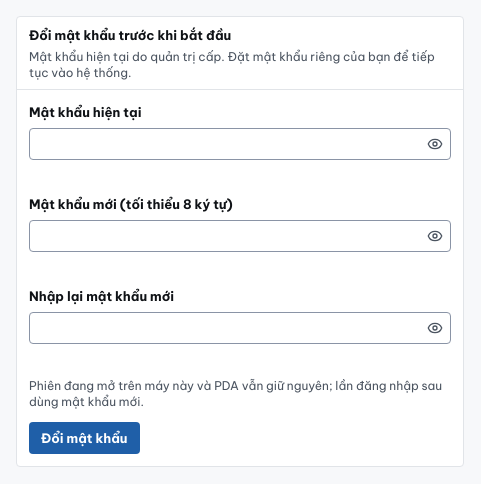
Test case: <ChangePasswordScreen> › mật khẩu mới trùng mật khẩu cũ → 422 gắn vào ô mật khẩu mới, không chuyển trang
Type "thiennong!" into the password field labelled "Mật khẩu hiện tại" at (240, 144), box [29,128,451,160]
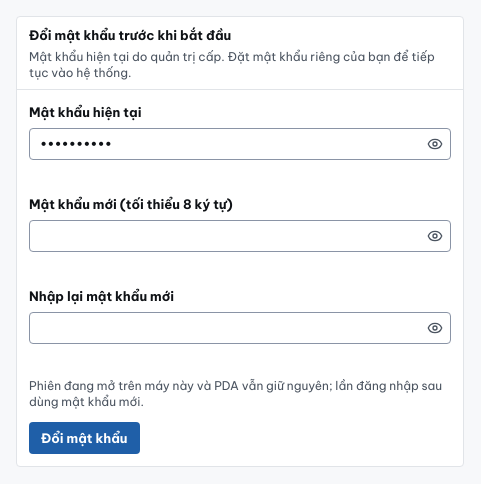
Type "thiennong!" into the password field labelled "Mật khẩu mới (tối thiểu 8 ký tự)" at (240, 236), box [29,220,451,252]
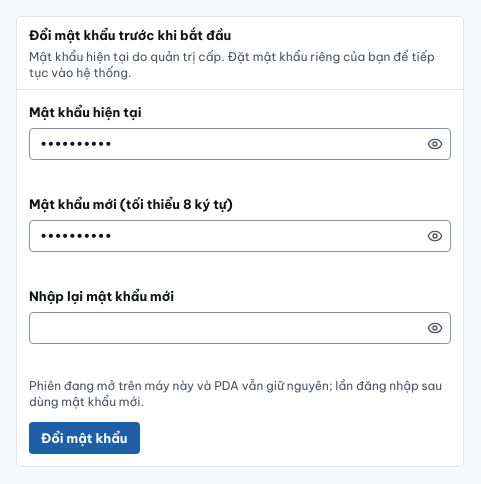
Type "thiennong!" into the password field labelled "Nhập lại mật khẩu mới" at (240, 328), box [29,312,451,344]
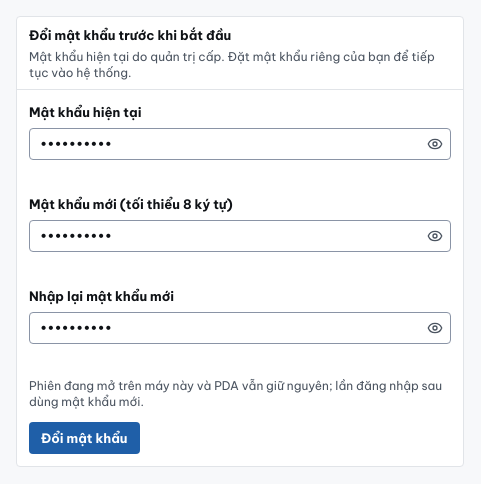
Click the button "Đổi mật khẩu" at (84, 438), box [29,422,140,454]
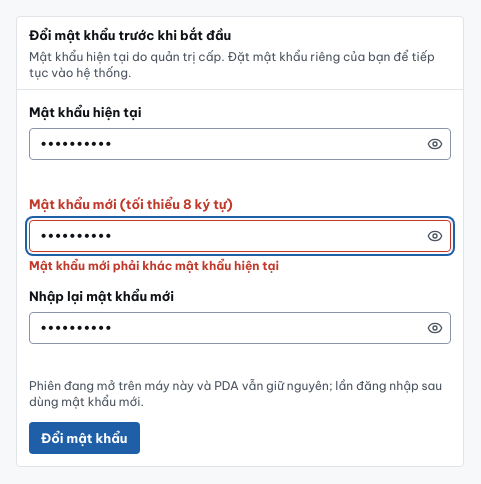
Now the text "Mật khẩu mới phải khác mật khẩu hiện tại" is shown, box [29,258,279,273]
